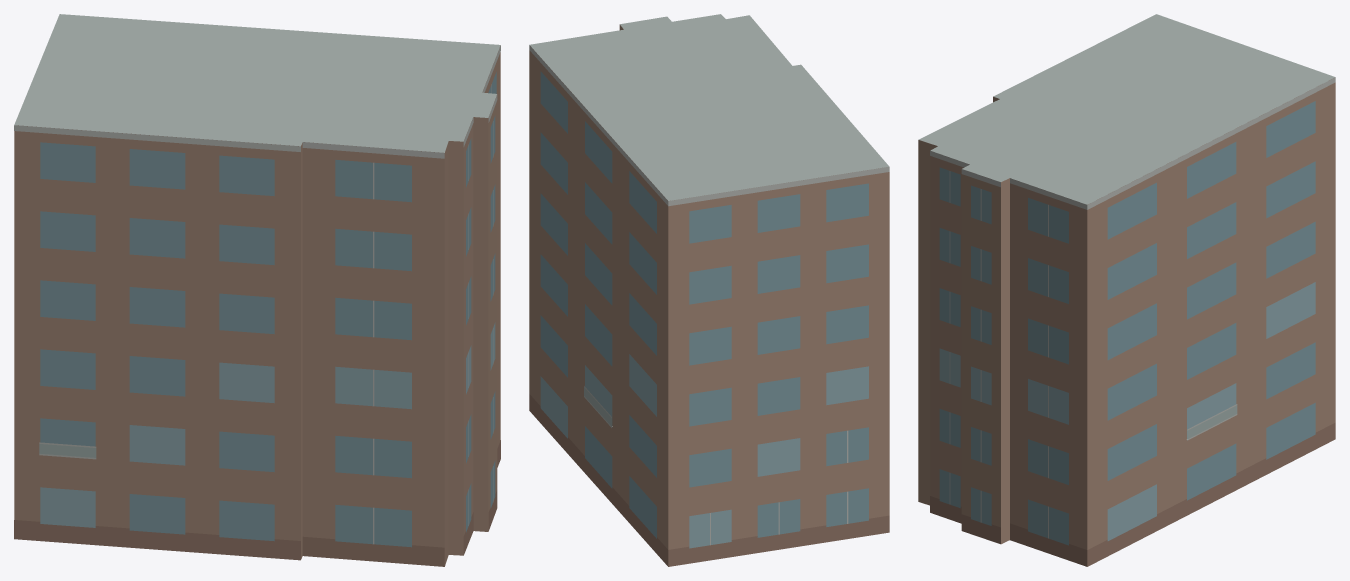
Rendered from survey-upis-32712951.glb.
3 views of the same model, side by side, from view 1: azimuth 30°, elevation 25°; view 2: azimuth 150°, elevation 25°; view 3: azimuth 270°, elevation 25° (orthographic). The views are drawn at different scales.
Parts seen in each view (by area): view 1: survey-upis-32712951.tmp; view 2: survey-upis-32712951.tmp; view 3: survey-upis-32712951.tmp.
Part boxes in pixels (x1=…): survey-upis-32712951.tmp: x1=14, y1=14, x2=500, y2=566; survey-upis-32712951.tmp: x1=529, y1=14, x2=889, y2=566; survey-upis-32712951.tmp: x1=918, y1=14, x2=1335, y2=566.
Size of the model in its own units: 19.38 by 17.14 by 17.91.
